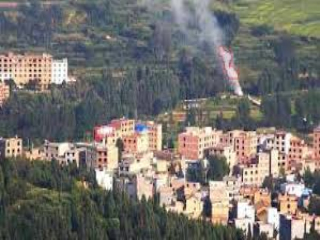fire: (216, 46, 257, 104)
smoke: (174, 1, 233, 55)
